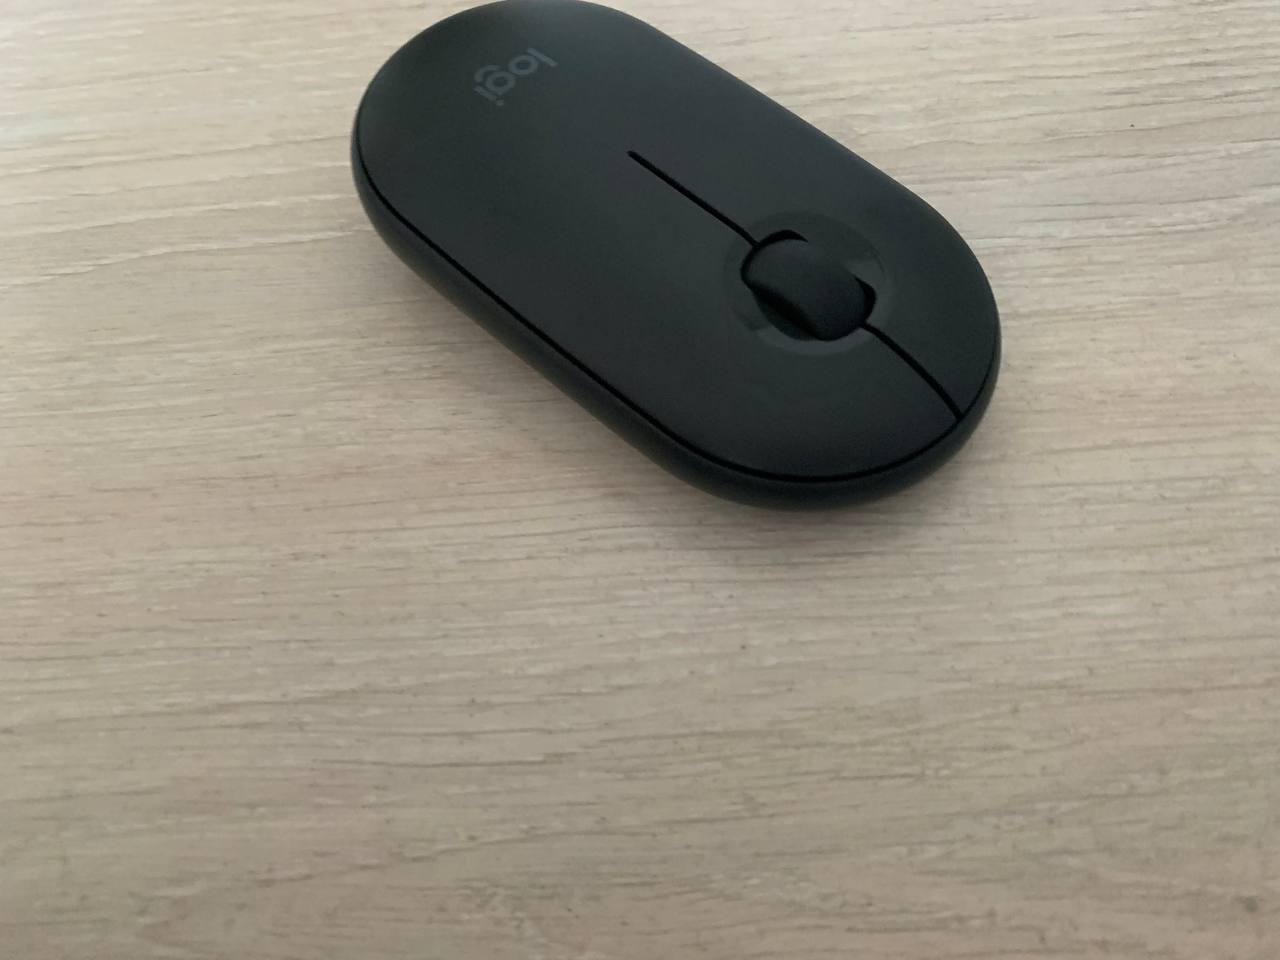mouse: (351, 0, 1000, 507)
